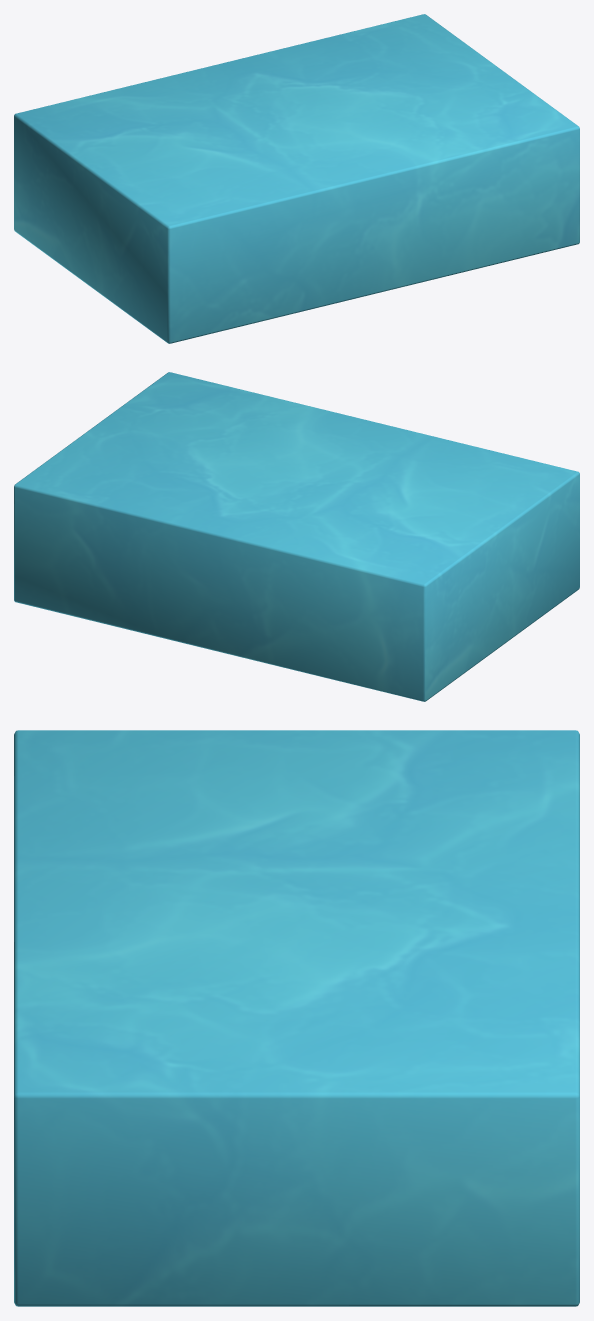
The model's file is SM_RunFloorIce02.fbx.
3 renders of one model, top to bottom at view 1: azimuth 30°, elevation 25°; view 2: azimuth 150°, elevation 25°; view 3: azimuth 270°, elevation 25°, orthographic. The views are drawn at different scales.
Parts seen in each view (by area): view 1: SM_RunFloorIce02; view 2: SM_RunFloorIce02; view 3: SM_RunFloorIce02.
Part boxes in pixels (<box>): SM_RunFloorIce02: <box>14,14,579,343</box>; SM_RunFloorIce02: <box>14,372,579,701</box>; SM_RunFloorIce02: <box>14,730,579,1306</box>.
Size of the model in its own units: 1529 by 419 by 1000.
